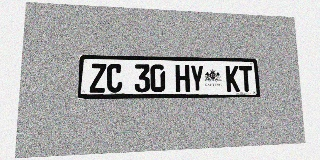0: (150, 64, 165, 92)
3: (135, 64, 150, 92)
C: (106, 64, 122, 93)
H: (175, 65, 190, 92)
K: (225, 65, 240, 92)
T: (239, 66, 253, 92)
Y: (190, 65, 204, 92)
Z: (89, 63, 106, 93)
